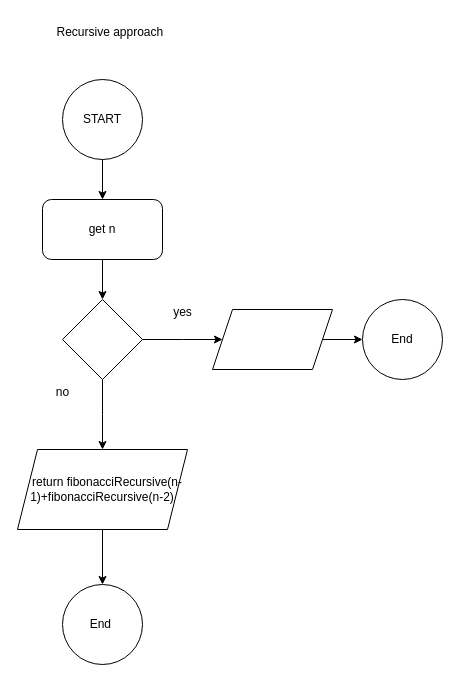
This 460x682 diagram has some shape labels left out. Each missing label, with the centre of its shape:
"n<=1" belongs at point (102, 339).
"return n" belongs at point (272, 339).
